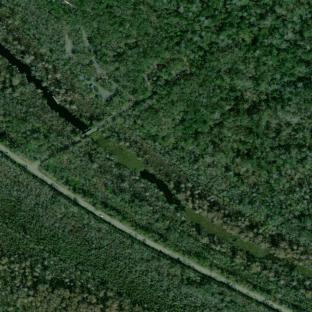Floresta: (0, 0, 312, 312), (0, 257, 144, 312), (0, 0, 0, 0)
